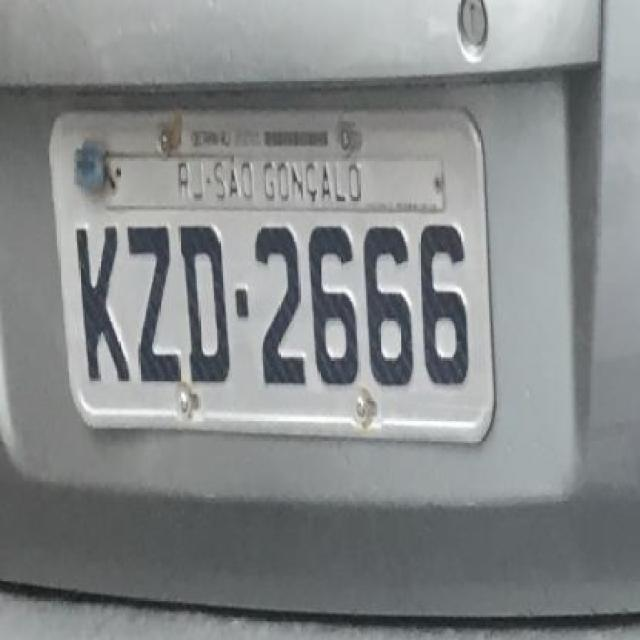old_plate: (41, 101, 510, 455)
